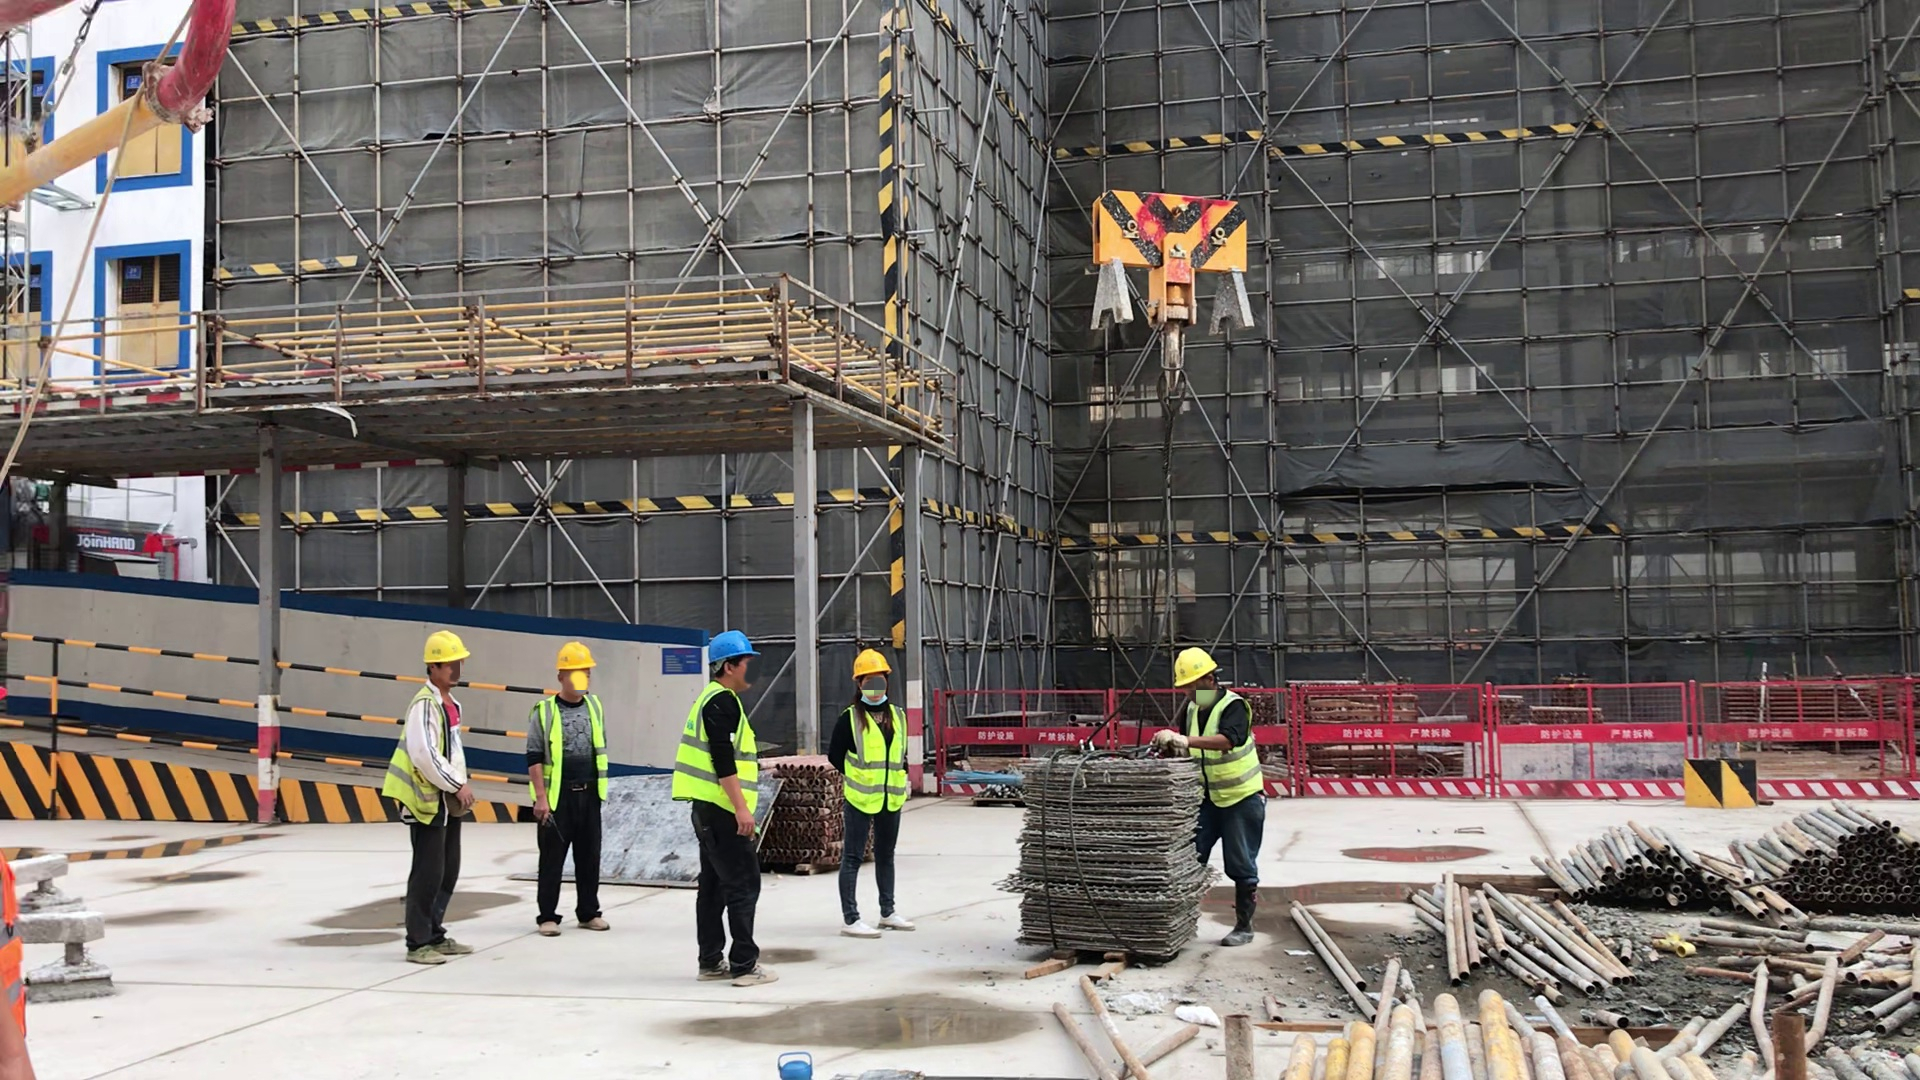helmet: (703, 630, 764, 666), (420, 627, 474, 666), (1169, 647, 1218, 688), (849, 648, 894, 683), (552, 640, 598, 672)
person: (666, 628, 790, 993), (1145, 646, 1268, 952), (382, 627, 477, 964), (519, 641, 614, 936), (829, 645, 925, 938)
vest: (377, 691, 472, 828), (669, 684, 764, 822), (525, 694, 617, 814), (1175, 689, 1266, 807), (832, 702, 914, 818)
